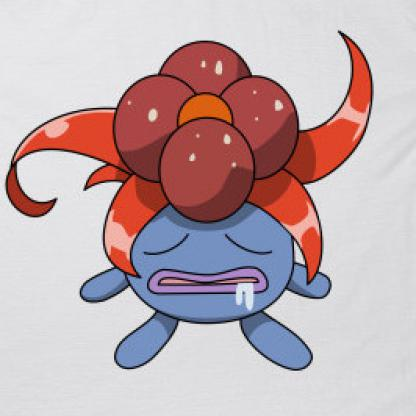Gloom: (2, 18, 381, 376)
